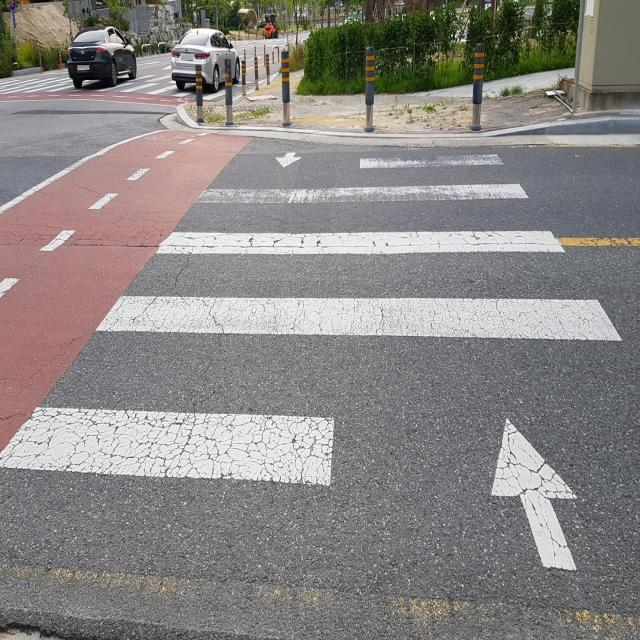횡단보도: (0, 146, 625, 576), (1, 77, 249, 102)
